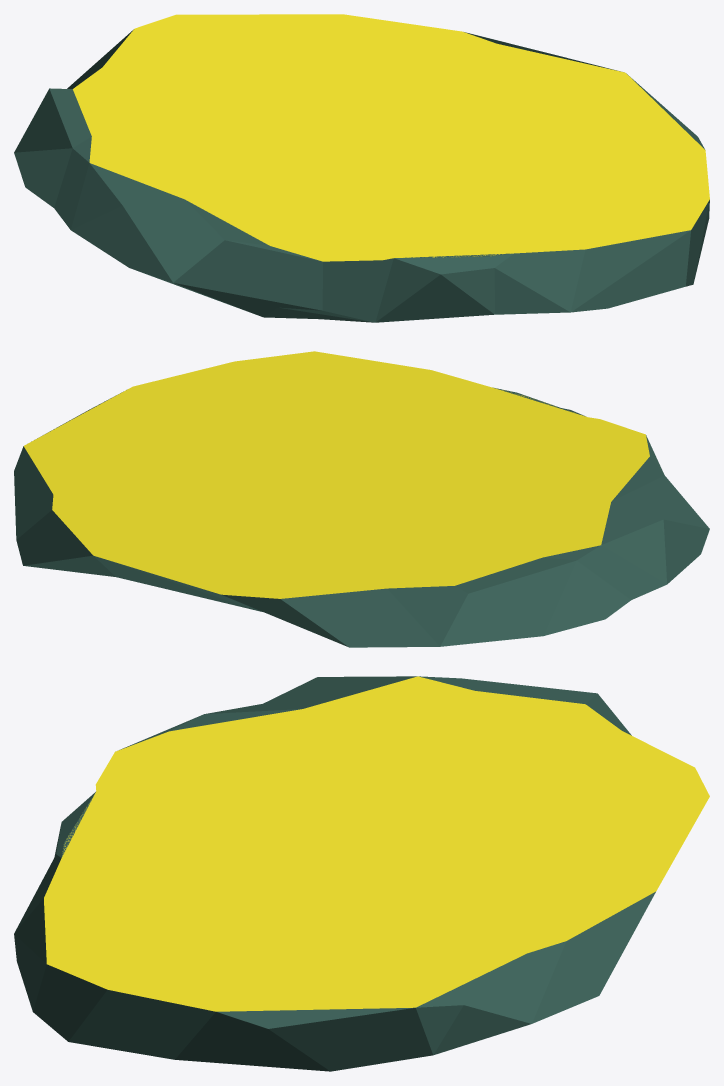
File: Stone_7.fbx
3 renders of one model, top to bottom at view 1: azimuth 30°, elevation 25°; view 2: azimuth 150°, elevation 25°; view 3: azimuth 270°, elevation 25°, orthographic. The views are drawn at different scales.
Parts seen in each view (by area): view 1: Stone 7; view 2: Stone 7; view 3: Stone 7.
Part boxes in pixels (x1=…): Stone 7: x1=14, y1=14, x2=709, y2=322; Stone 7: x1=14, y1=351, x2=709, y2=647; Stone 7: x1=14, y1=676, x2=709, y2=1071.
Bounding box in the file's own units: 6903 × 1354 × 6501.
